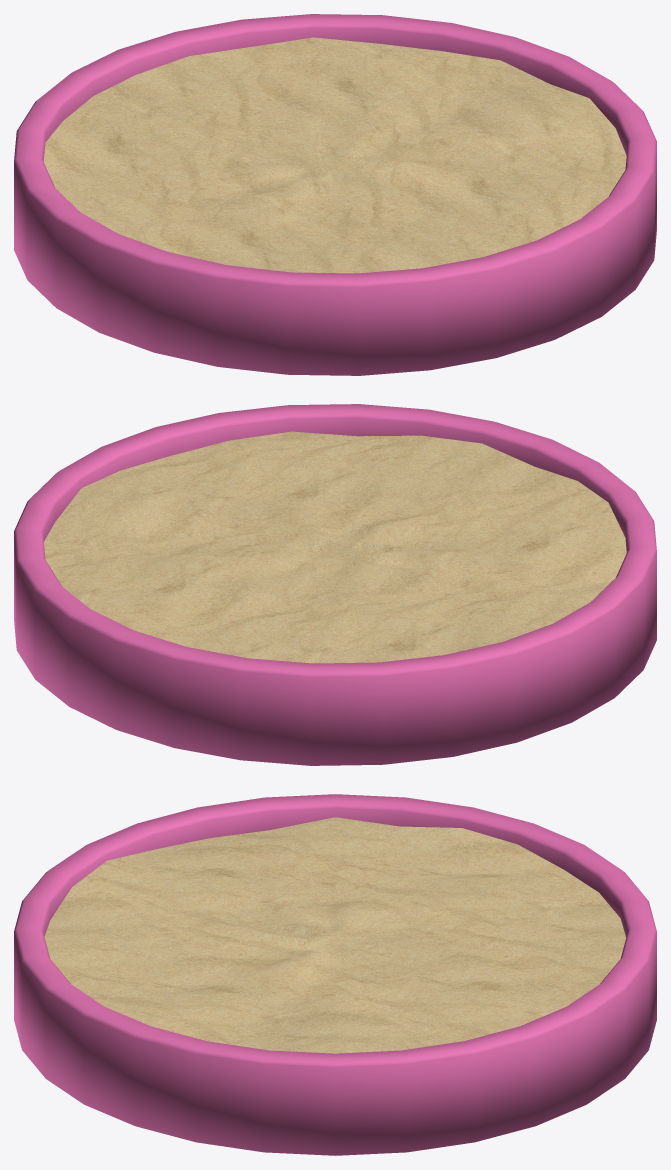
Rendered from sandbox-pink.glb.
The picture shows the model from 3 angles, top to bottom: view 1: azimuth 30°, elevation 25°; view 2: azimuth 150°, elevation 25°; view 3: azimuth 270°, elevation 25°; orthographic projection.
Visible parts, largest first — view 1: sandbox2; view 2: sandbox2; view 3: sandbox2.
Boxes of the visible parts, bbox=[...] form: sandbox2: bbox=[14, 14, 656, 375]; sandbox2: bbox=[14, 404, 656, 765]; sandbox2: bbox=[14, 794, 656, 1155].
Size of the model in its own units: 2.44 by 0.3828 by 2.44.
Materials: 2 (1 with a texture image).
